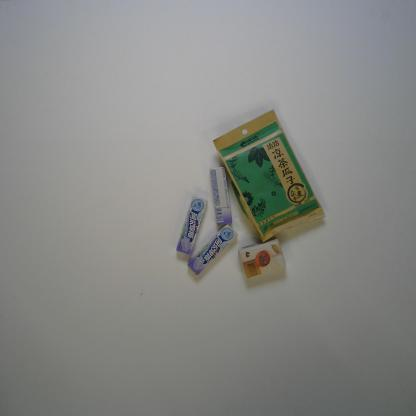Candy: (187, 224, 238, 278), (175, 195, 208, 257), (209, 165, 233, 226)
Dried Food: (212, 108, 327, 244)
Tissue: (238, 237, 288, 280)
